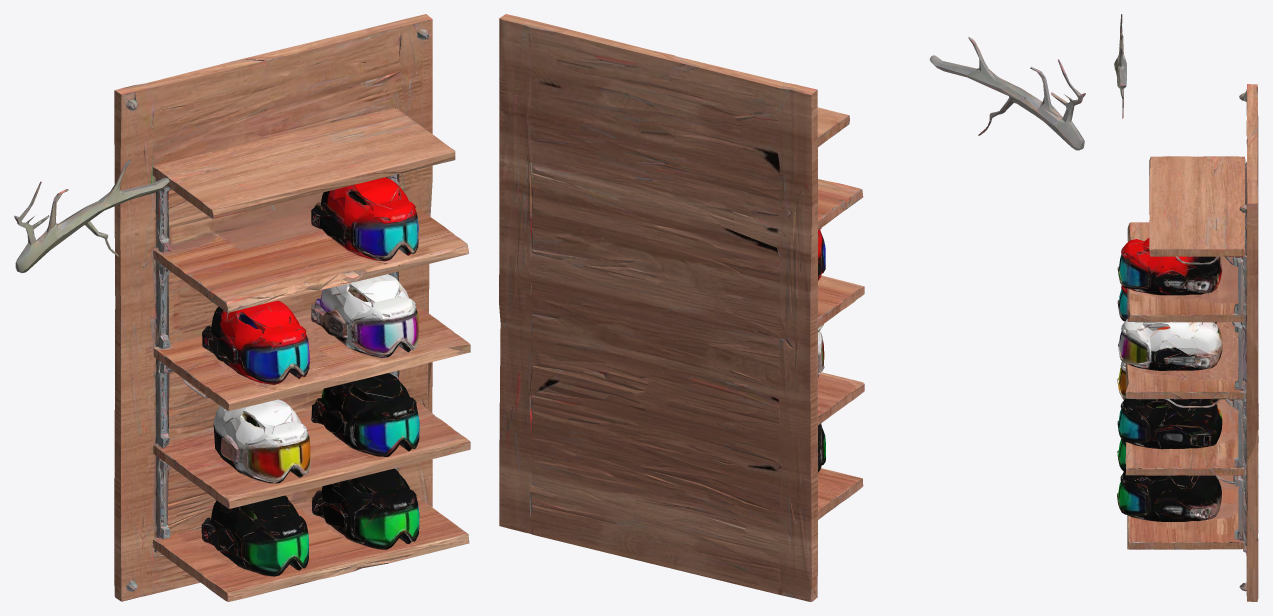
The model's file is helmet_shelf.glb.
The picture shows the model from 3 angles, left to right: view 1: azimuth 30°, elevation 25°; view 2: azimuth 150°, elevation 25°; view 3: azimuth 270°, elevation 25°; orthographic projection. The views are drawn at different scales.
Size of the model in its own units: 1.9 by 1.88 by 0.6064.
1 material, 1 textured.
